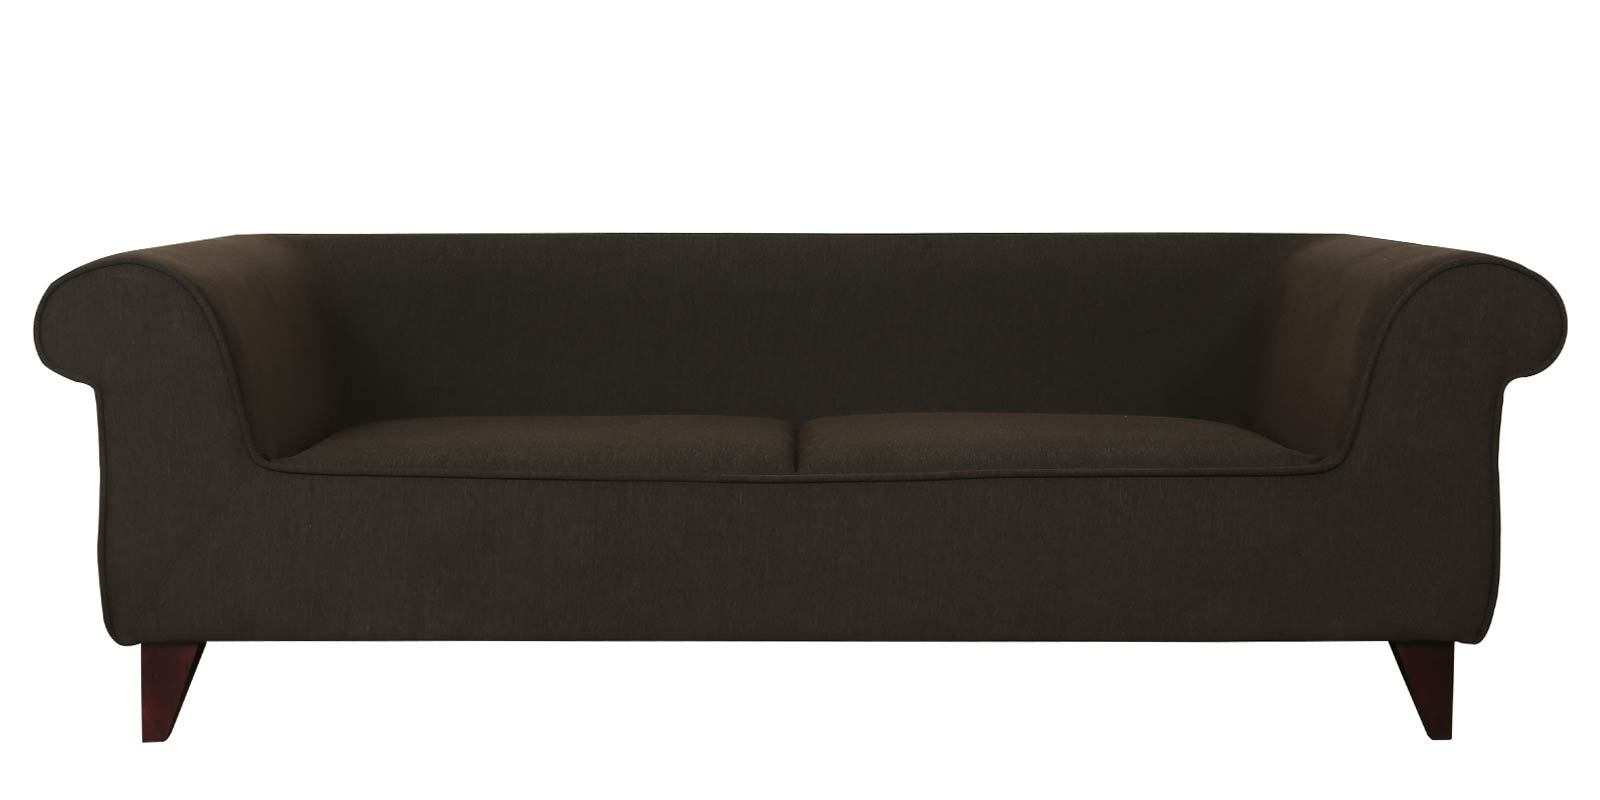Cielo Three Seater Sofa in Chestnut Brown Colour by CasaCraft: (29, 145, 1600, 733)
